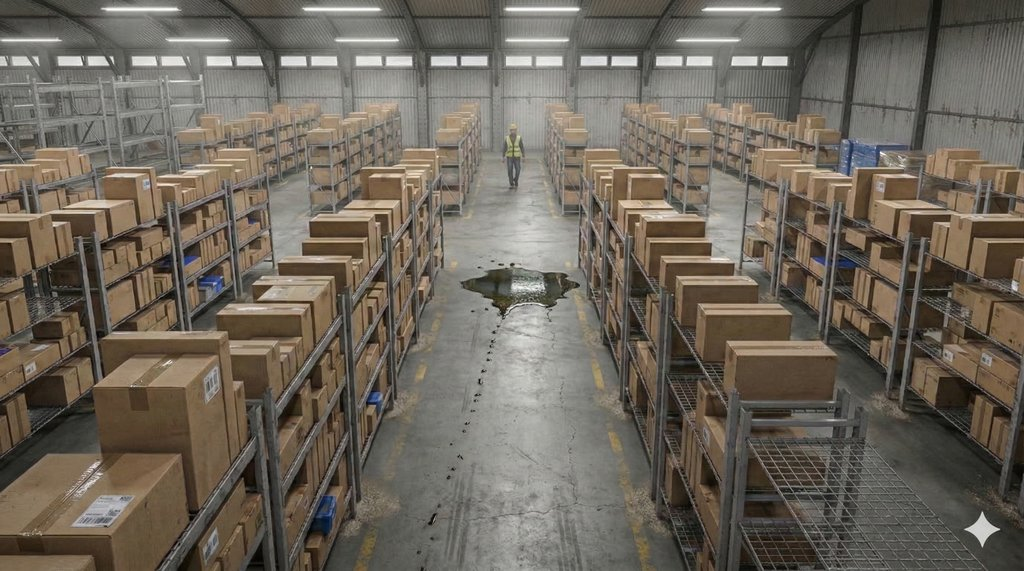empty_shelf: (717, 413, 969, 567), (2, 65, 192, 119), (94, 118, 174, 163), (925, 257, 976, 324), (27, 270, 86, 313), (920, 301, 950, 356), (841, 216, 871, 267), (31, 385, 67, 427), (931, 387, 974, 419), (835, 253, 857, 296), (788, 193, 809, 231)
person: (489, 104, 551, 197)
safety_helmet: (502, 122, 523, 131)
safety_vest: (499, 133, 526, 163)
spill: (451, 254, 582, 396)
